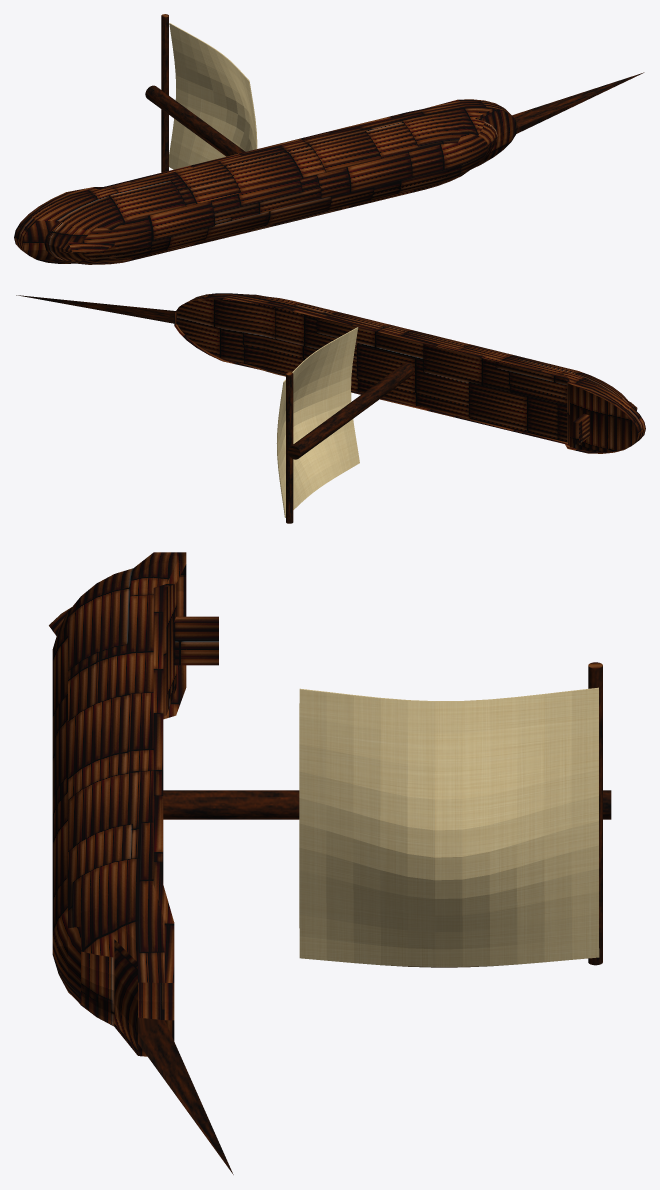
The model's file is NewShip.fbx.
3 views of the same model, one above another, from view 1: azimuth 30°, elevation 25°; view 2: azimuth 150°, elevation 25°; view 3: azimuth 270°, elevation 25° (orthographic). The views are drawn at different scales.
Parts seen in each view (by area): view 1: Boat; view 2: Boat; view 3: Boat.
Boxes of the visible parts, x1=… form: Boat: x1=14, y1=14, x2=644, y2=264; Boat: x1=16, y1=293, x2=645, y2=523; Boat: x1=49, y1=552, x2=611, y2=1174.
Bounding box in the file's own units: 9681 × 2243 × 3856.
